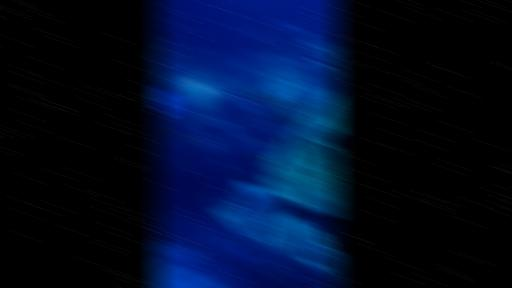Fish: (278, 199, 339, 248), (274, 20, 317, 41), (252, 87, 279, 104), (275, 105, 296, 126), (290, 102, 325, 114), (323, 127, 340, 146), (253, 156, 276, 166), (171, 129, 190, 140), (154, 96, 173, 105), (255, 28, 270, 39), (288, 134, 298, 149), (308, 250, 320, 261), (210, 20, 227, 27), (190, 45, 205, 52), (249, 31, 262, 38), (189, 28, 204, 34), (253, 119, 268, 125), (167, 6, 179, 13), (163, 48, 173, 55), (169, 21, 181, 26), (161, 28, 173, 33), (246, 172, 258, 176), (159, 11, 162, 18), (159, 123, 162, 126)
